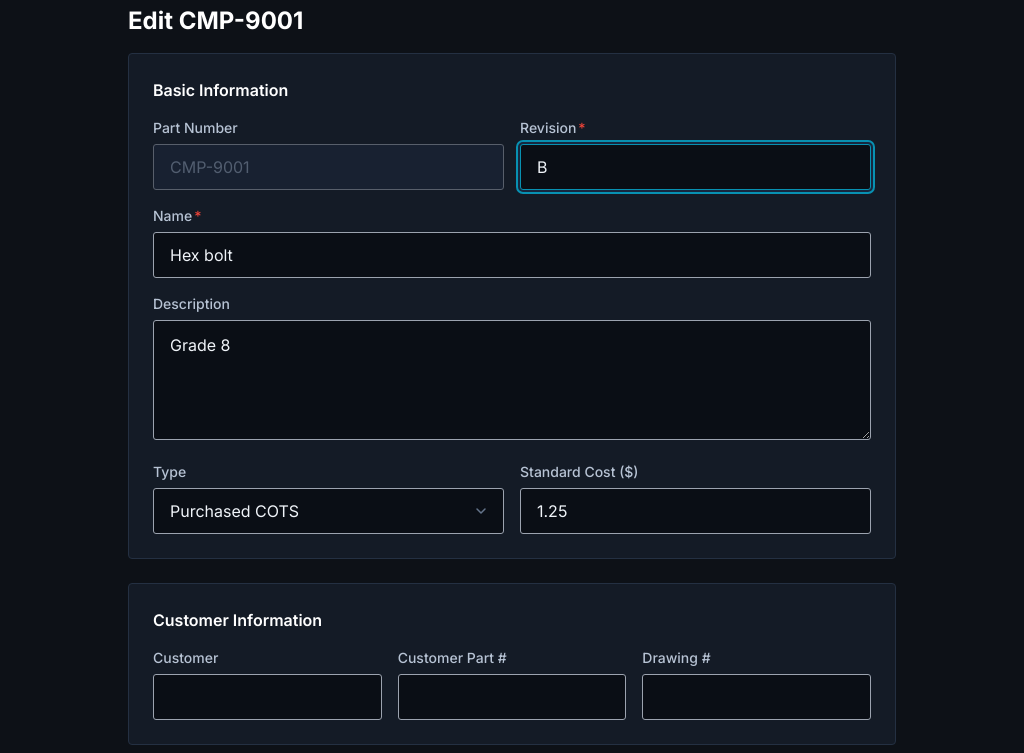
it: PartEdit: a material row reached through the BOM drill-through › surfaces the server’s refusal verbatim rather than a generic failure
Expected: the field showing "Hex bolt" is shown, [153,232,871,278]
Select "Manufactured" in the dropdown labelled "Type" at (328, 511), box [153,488,504,534]
(page scrolled)
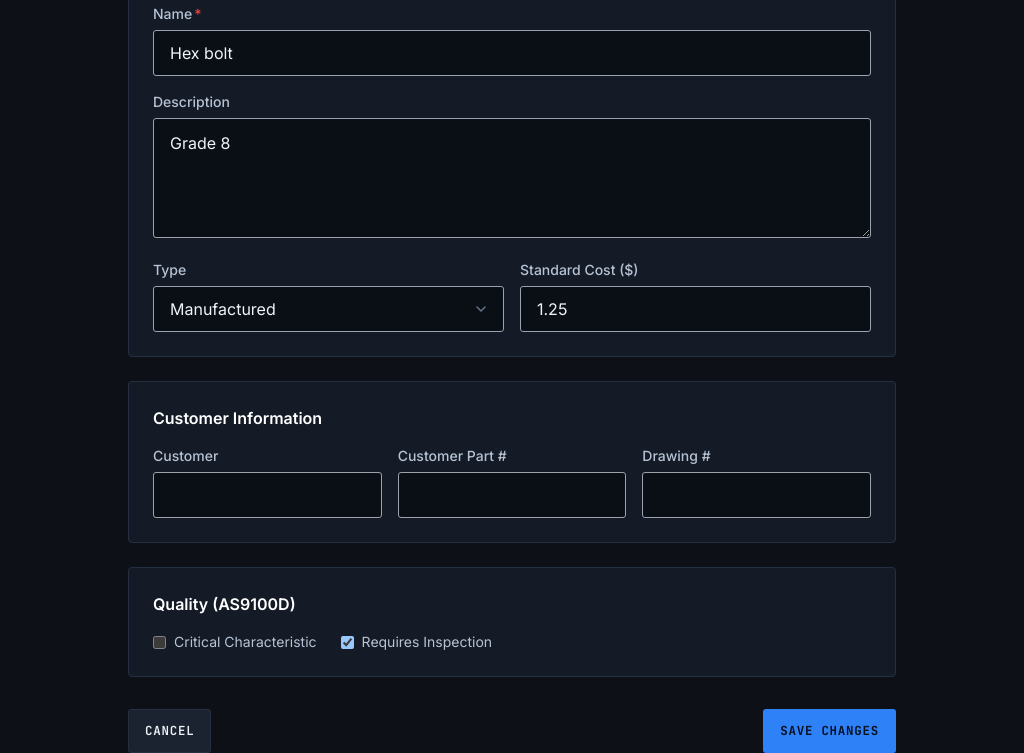
Click the button "Save Changes" at (830, 731), box [763,709,896,752]
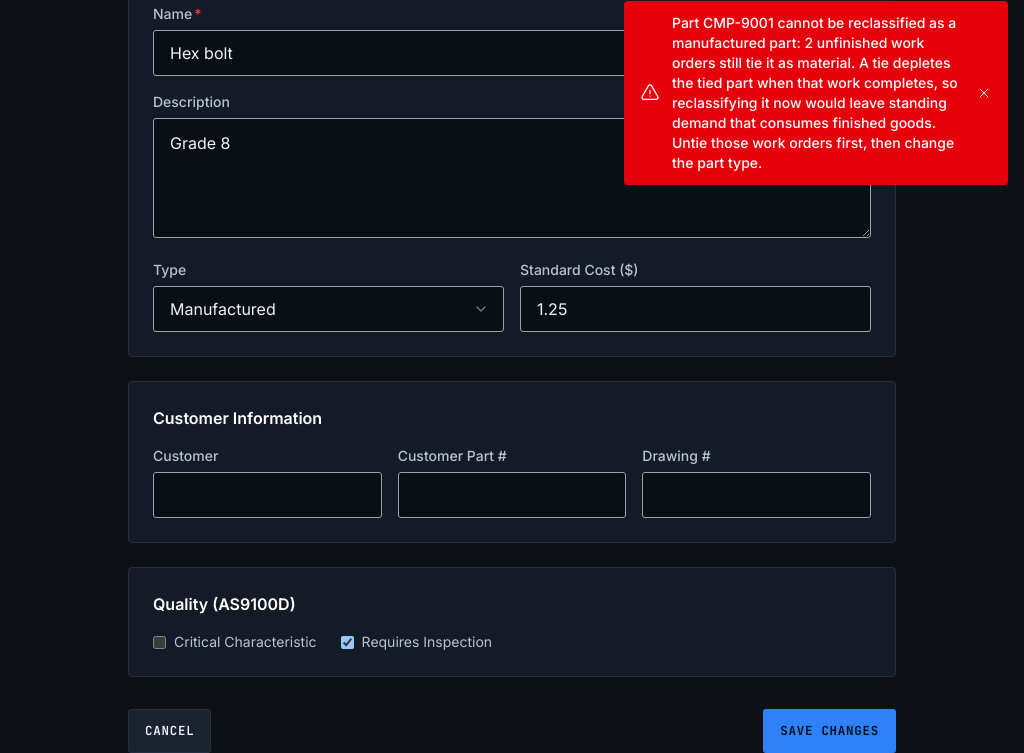
Result: the text "Untie those work orders first, then change the part type." is shown at [672,14,958,171]
